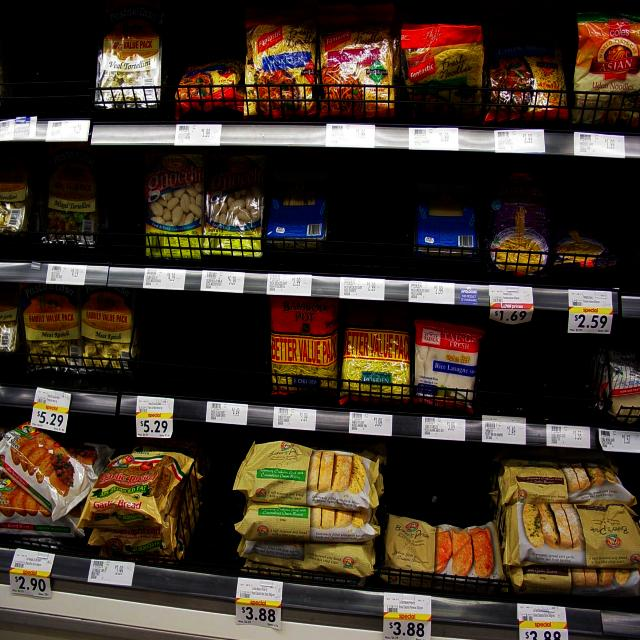empty_space: (145, 302, 263, 386), (7, 14, 94, 114), (483, 336, 585, 416), (330, 152, 404, 256), (388, 450, 486, 518), (206, 457, 237, 570)
